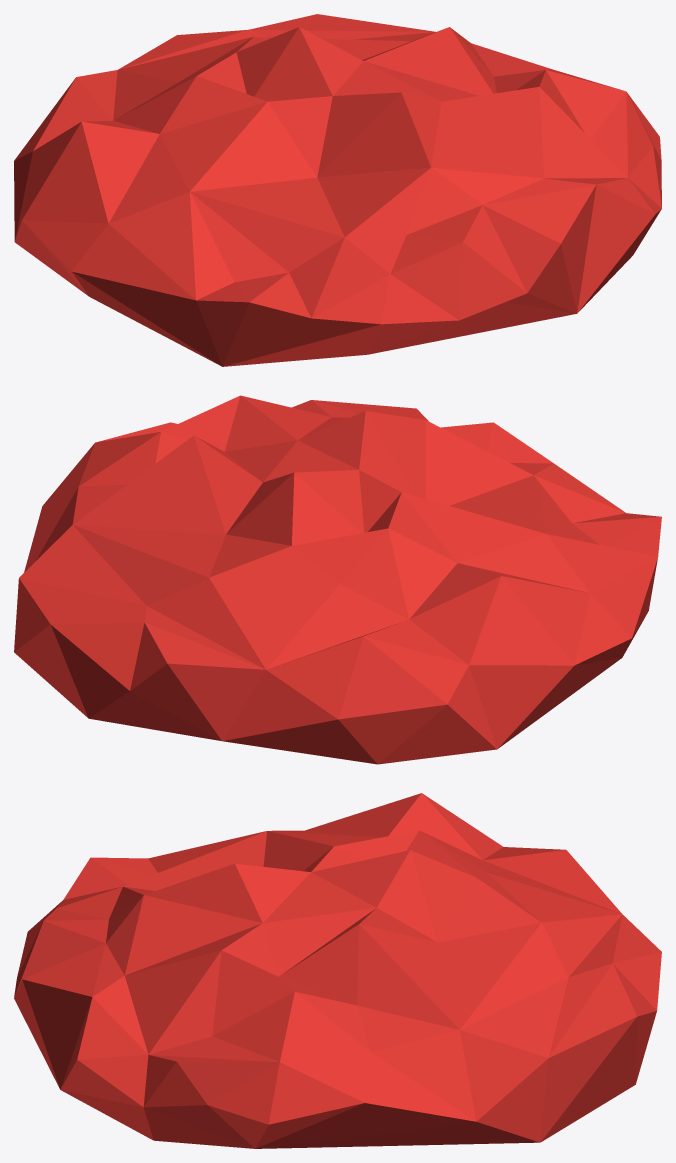
Rendered from SM_Cookie_Chocolate_Chip.fbx.
3 views of the same model, one above another, from view 1: azimuth 30°, elevation 25°; view 2: azimuth 150°, elevation 25°; view 3: azimuth 270°, elevation 25° (orthographic).
Parts seen in each view (by area): view 1: cookie-chocolate-chip; view 2: cookie-chocolate-chip; view 3: cookie-chocolate-chip.
Part boxes in pixels (<box>): cookie-chocolate-chip: <box>14,14,661,366</box>; cookie-chocolate-chip: <box>14,395,661,764</box>; cookie-chocolate-chip: <box>14,793,661,1148</box>.
Size of the model in its own units: 0.0811 by 0.0276 by 0.0786.
